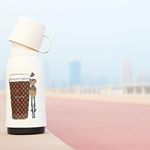cups: (5, 14, 55, 57)
